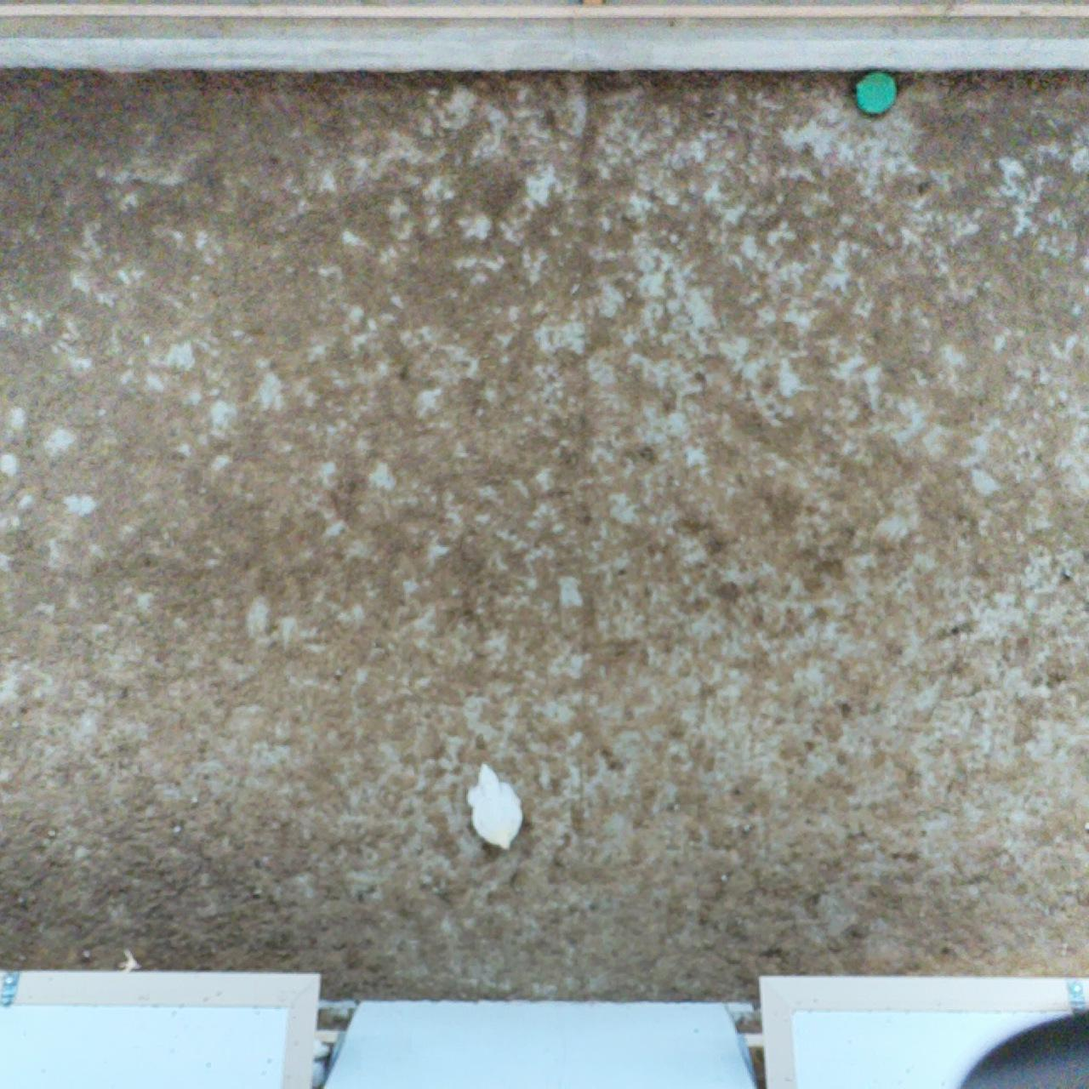chicken: (463, 752, 533, 860)
